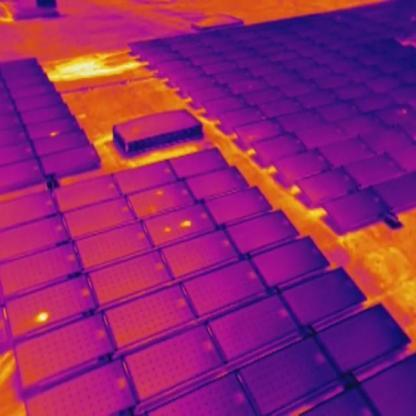anomaly: (33, 311, 49, 323), (181, 217, 192, 230), (48, 128, 58, 139)
